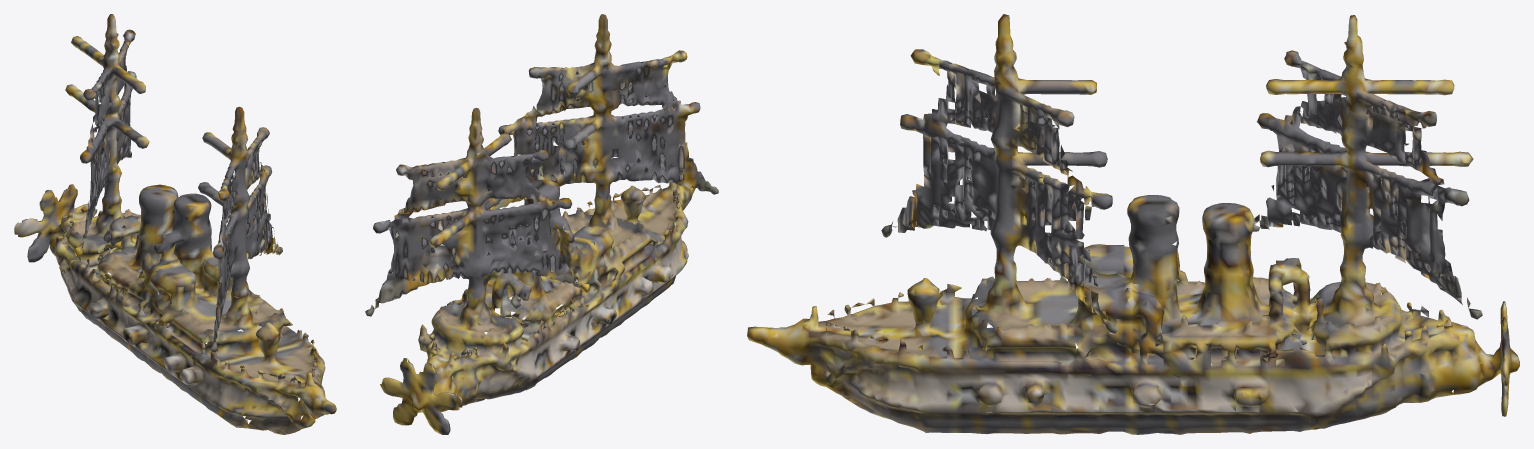
The model's file is mon3d.glb.
3 views of the same model, side by side, from view 1: azimuth 30°, elevation 25°; view 2: azimuth 150°, elevation 25°; view 3: azimuth 270°, elevation 25° (orthographic). The views are drawn at different scales.
Size of the model in its own units: 0.6277 by 1.15 by 1.96.
